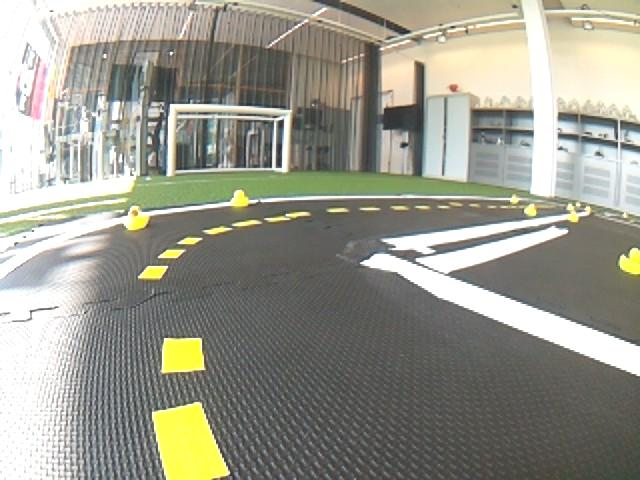Duckies: (124, 205, 149, 231), (619, 245, 640, 275), (229, 190, 249, 206), (523, 205, 537, 216), (567, 212, 579, 222), (510, 195, 519, 204), (566, 204, 575, 211), (583, 206, 591, 212), (576, 201, 580, 207)
